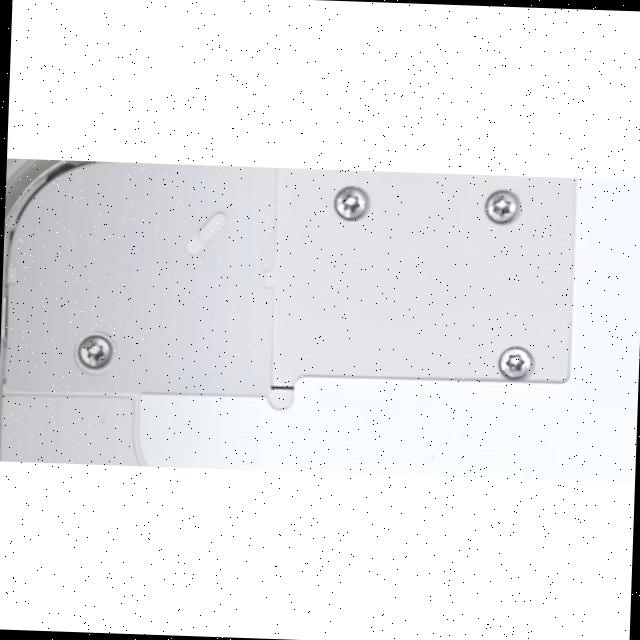Torx: (76, 332, 114, 370), (496, 344, 534, 380), (333, 186, 368, 220), (484, 190, 519, 224)
